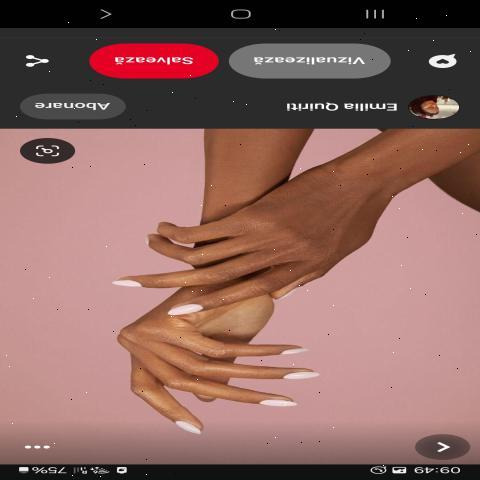Hands: (96, 170, 410, 317), (96, 321, 318, 461)
